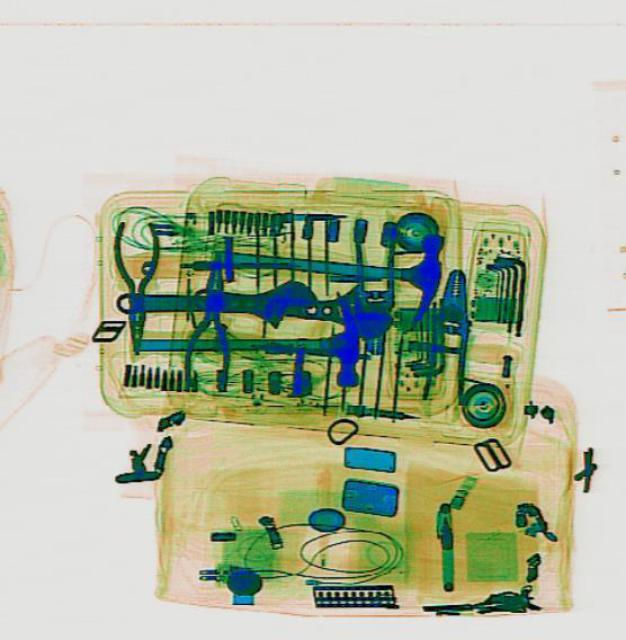Pliers: (178, 248, 240, 388), (422, 268, 473, 400), (109, 221, 158, 353)
Wrench: (113, 274, 387, 336), (191, 272, 315, 330)
